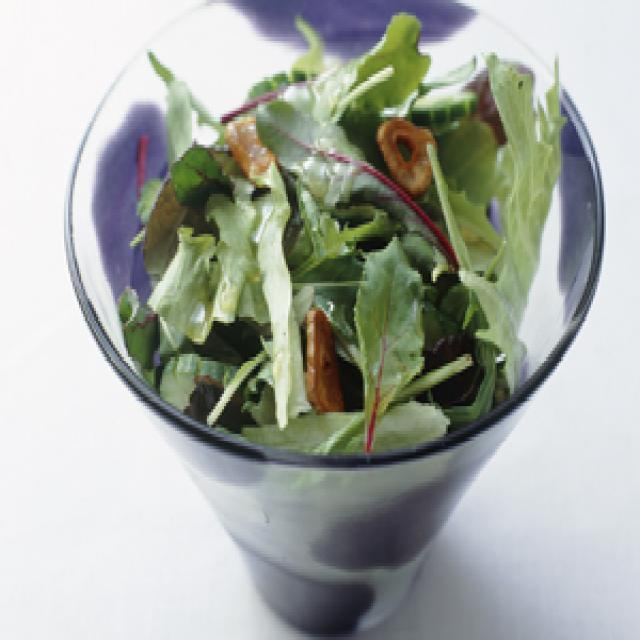Green Salad: (128, 22, 538, 416)
